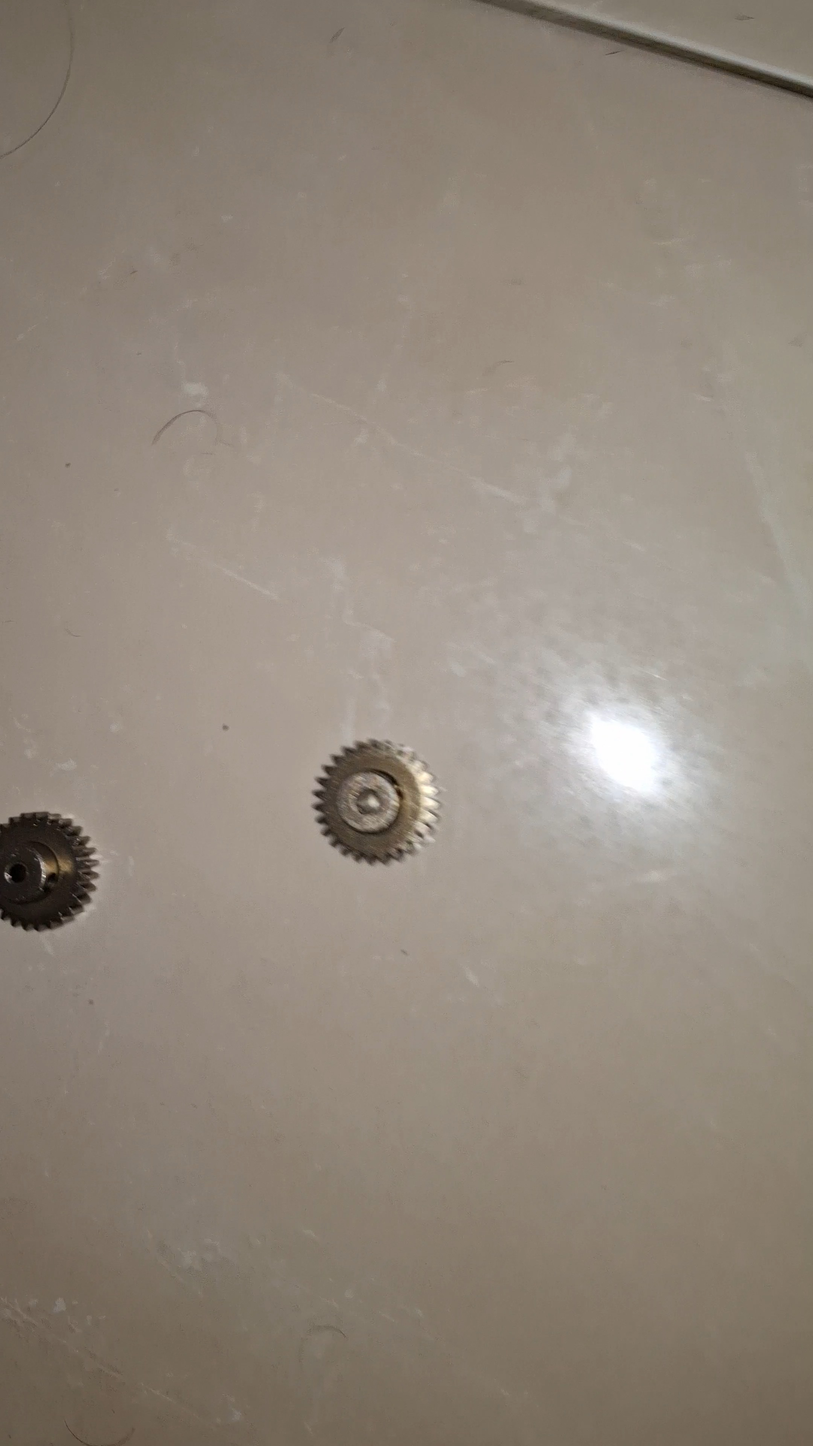spur gear: (315, 740, 439, 863), (0, 813, 96, 929)
